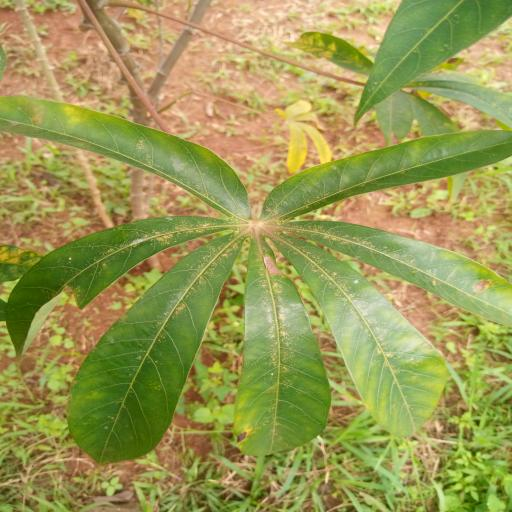Cassava_Mosaic: (5, 90, 512, 468)
